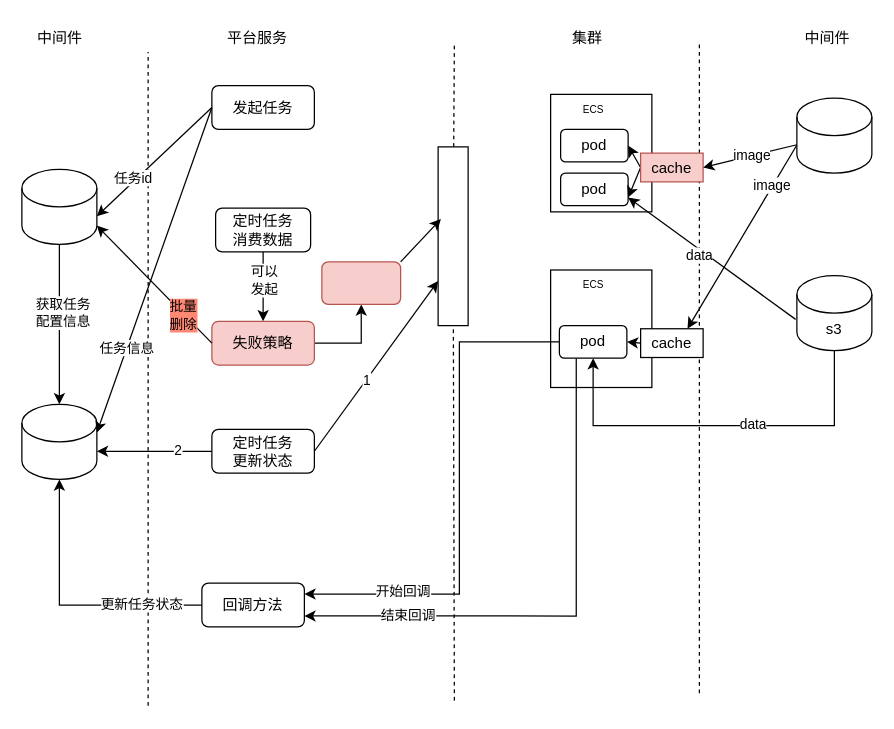
Some shapes in this 894 by 729 pixel diagram are drawn without their labels. The shapes that lost their labels are listed below. From the top down, each one's box as (x1, y1, x2, y2) in pixels, then its label:
(796, 97, 872, 173): repo
(21, 168, 97, 244): redis
(437, 146, 468, 326): K 8 S 接口
(321, 261, 401, 304): 拥塞控制
(21, 403, 97, 479): pgsql
